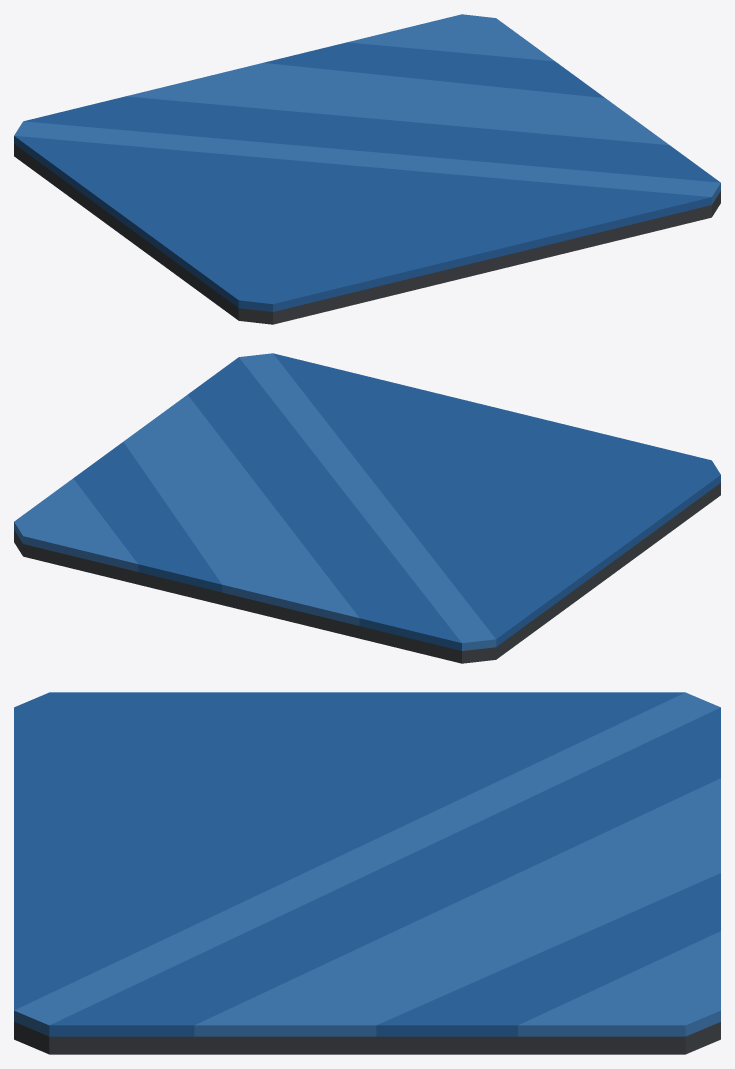
The model's file is SM_Prop_Computer_Mousepad_03.obj.
3 renders of one model, top to bottom at view 1: azimuth 30°, elevation 25°; view 2: azimuth 150°, elevation 25°; view 3: azimuth 270°, elevation 25°, orthographic. The views are drawn at different scales.
Parts seen in each view (by area): view 1: SM_Prop_Computer_Mousepad_03_0; view 2: SM_Prop_Computer_Mousepad_03_0; view 3: SM_Prop_Computer_Mousepad_03_0.
Part boxes in pixels (bbox=[...]): SM_Prop_Computer_Mousepad_03_0: bbox=[14, 14, 720, 324]; SM_Prop_Computer_Mousepad_03_0: bbox=[14, 353, 720, 663]; SM_Prop_Computer_Mousepad_03_0: bbox=[14, 692, 720, 1054].
Size of the model in its own units: 0.3412 by 0.0139 by 0.3062.
1 material, 1 textured.
